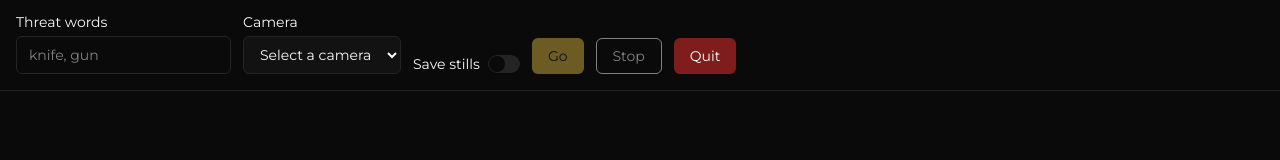
Test case: test_quit_shows_error_on_rejection › shows the error and does not close the page when Quit fails
The image size is (1280, 160).
Click the button "Quit".
click(705, 56)  # box [674,38,736,74]
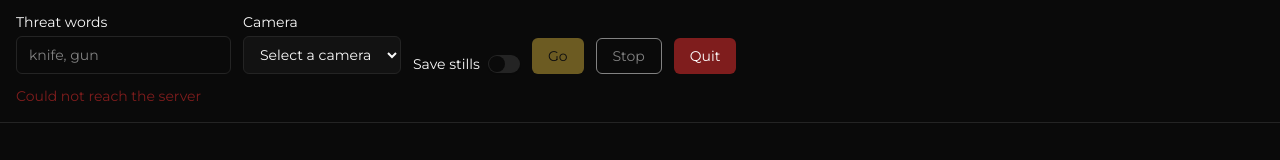
Check: the text "Could not reach the server" is shown, box [16,87,201,105]
